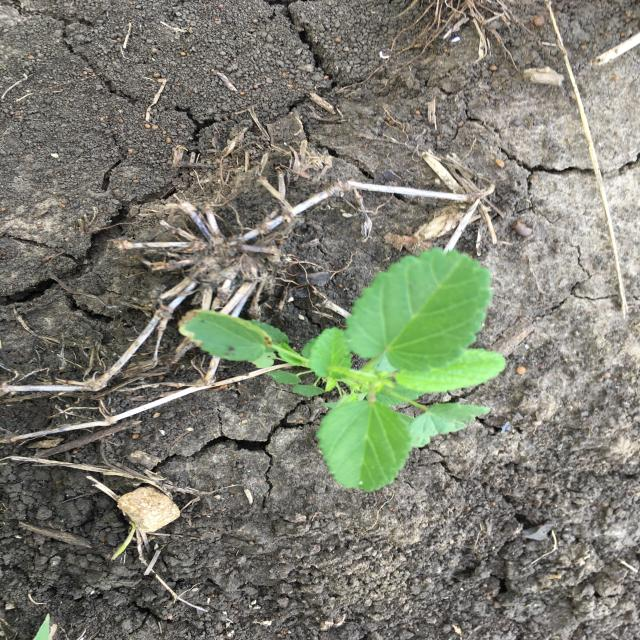PricklySida: (176, 245, 510, 493)
